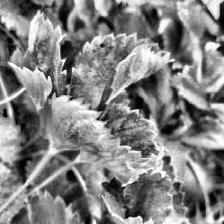Powdery Mildew Leaf: (68, 32, 176, 112), (47, 93, 161, 163)
